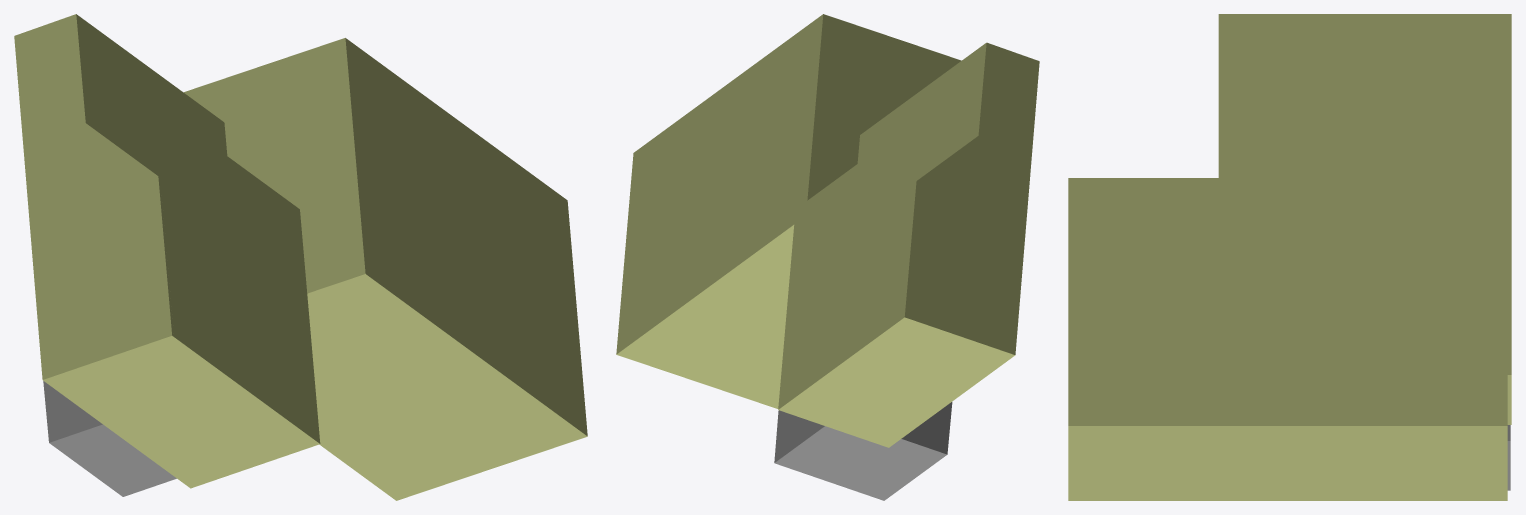
3 views of the same model, side by side, from view 1: azimuth 30°, elevation 25°; view 2: azimuth 150°, elevation 25°; view 3: azimuth 270°, elevation 25° (orthographic). The views are drawn at different scales.
Parts seen in each view (by area): view 1: 0_2_3_3_3_1_0_2_3_0_0; view 2: 0_2_3_3_3_1_0_2_3_0_0; view 3: 0_2_3_3_3_1_0_2_3_0_0.
Part boxes in pixels (x1=…): 0_2_3_3_3_1_0_2_3_0_0: x1=14, y1=14, x2=587, y2=500; 0_2_3_3_3_1_0_2_3_0_0: x1=616, y1=14, x2=1039, y2=500; 0_2_3_3_3_1_0_2_3_0_0: x1=1068, y1=14, x2=1511, y2=500.
Size of the model in its own units: 8.17 by 9.43 by 9.08.
